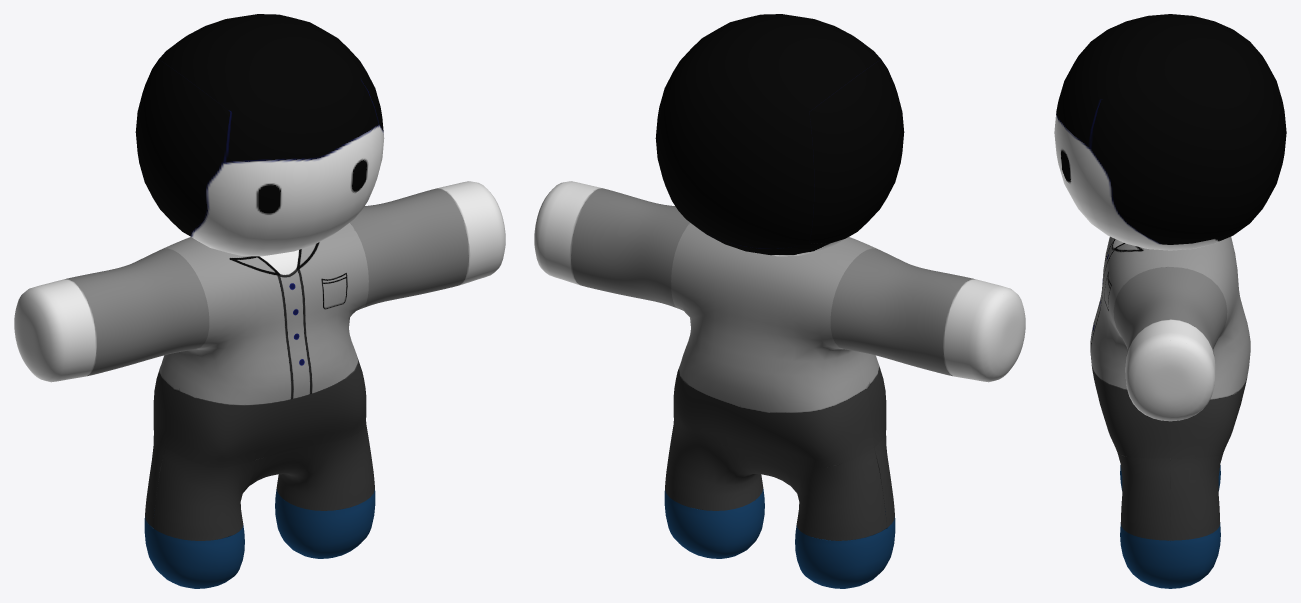
Rendered from MC Char.fbx.
3 views of the same model, side by side, from view 1: azimuth 30°, elevation 25°; view 2: azimuth 150°, elevation 25°; view 3: azimuth 270°, elevation 25° (orthographic). The views are drawn at different scales.
Visible parts, largest first — view 1: Plane.001; view 2: Plane.001; view 3: Plane.001.
Boxes of the visible parts, x1,y1,x2,y2 form: Plane.001: (14,14,505,588); Plane.001: (534,14,1025,588); Plane.001: (1054,14,1286,588).
Bounding box in the file's own units: 168 × 187 × 74.94.
Materials: 1 (1 with a texture image).
